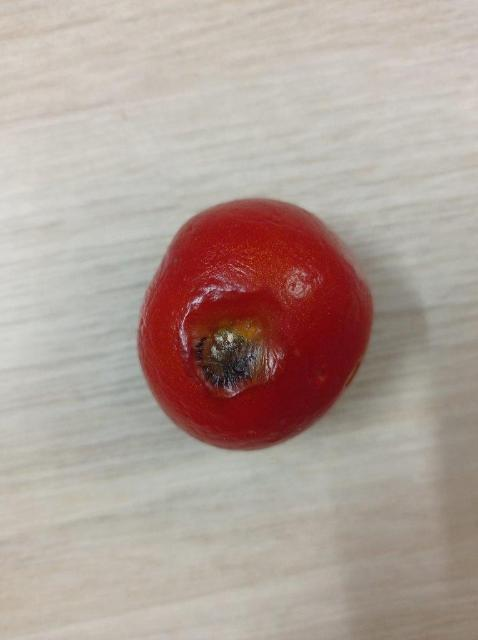defect: (137, 196, 377, 455)
